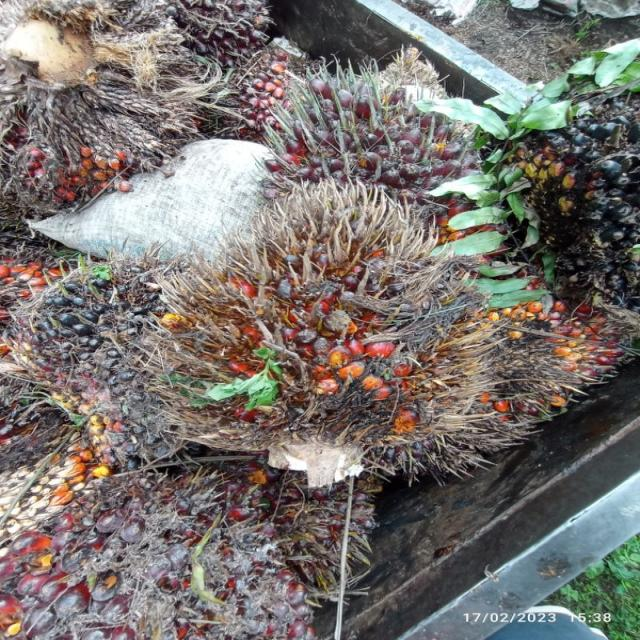fraksi 00: (17, 254, 232, 451), (523, 71, 640, 325)
fraksi 1: (239, 24, 505, 269), (0, 464, 328, 640)
fraksi 4: (148, 178, 495, 481)
